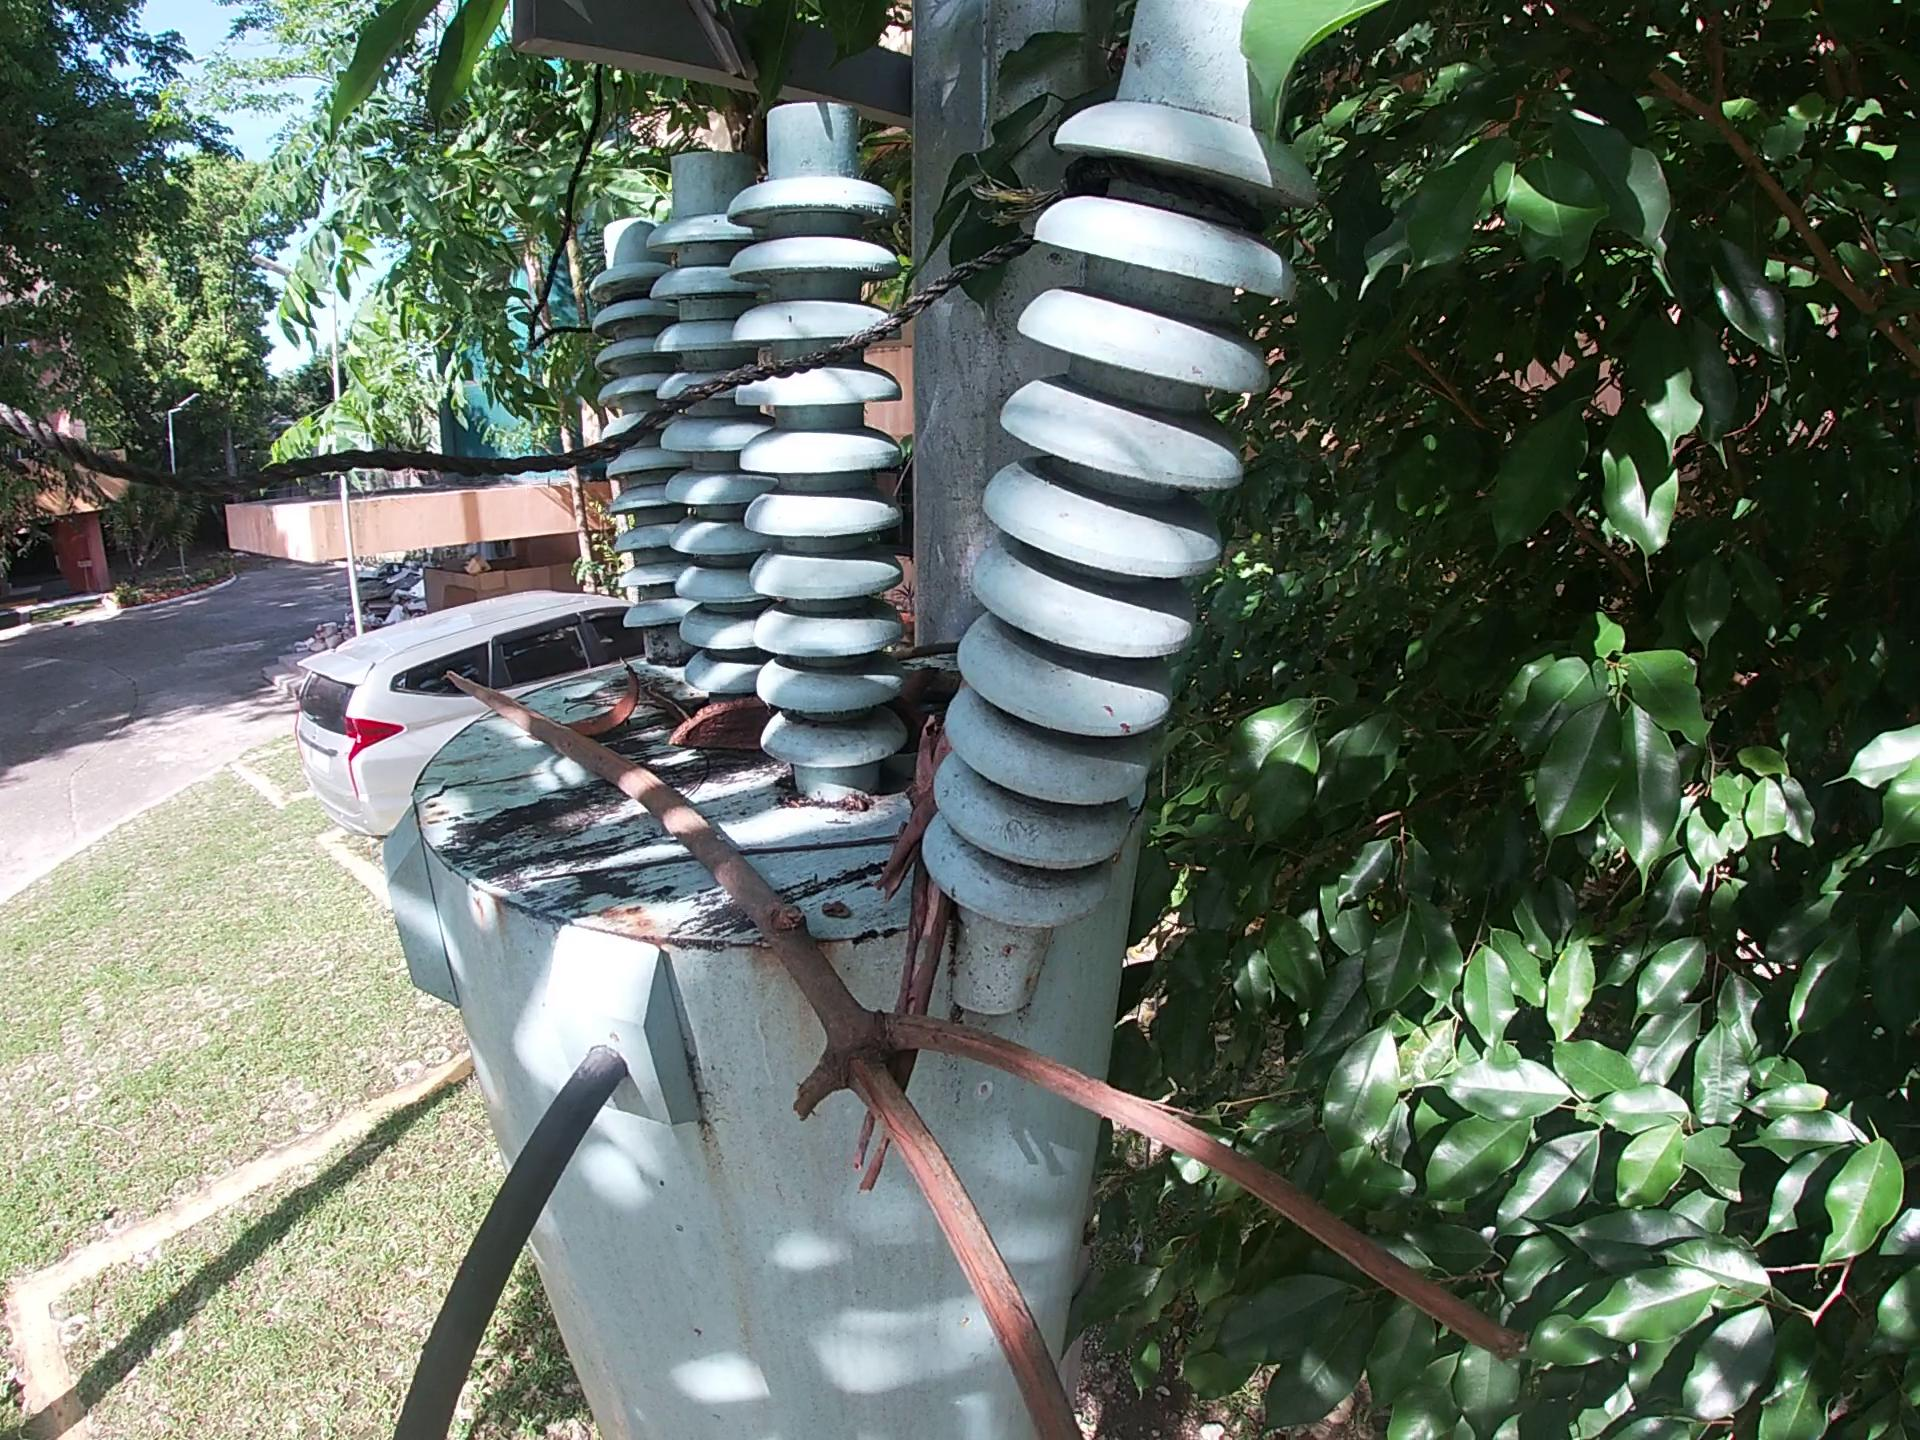mahogany fruit: (661, 694, 783, 756), (559, 656, 646, 740)
tree branch: (435, 659, 1531, 1438), (841, 715, 965, 1206), (881, 635, 971, 666)
